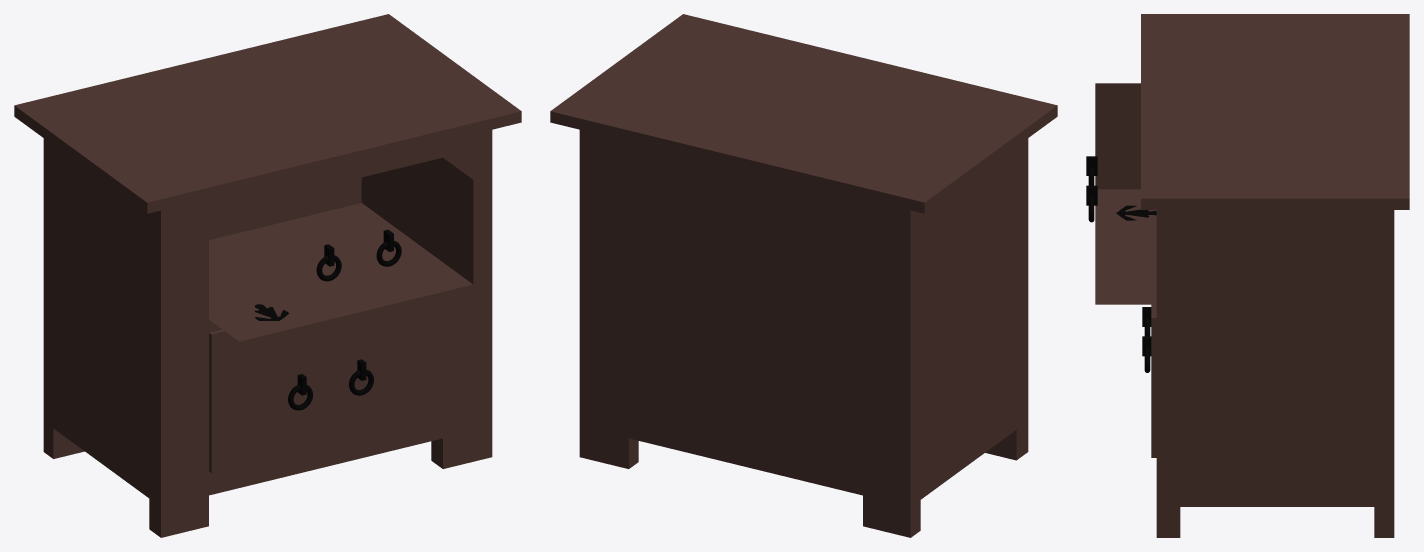
The model's file is gavetaancora.fbx.
3 renders of one model, left to right at view 1: azimuth 30°, elevation 25°; view 2: azimuth 150°, elevation 25°; view 3: azimuth 270°, elevation 25°, orthographic.
Parts seen in each view (by area): view 1: armario.002; view 2: armario.002; view 3: armario.002.
Part boxes in pixels (x1,y1,x2,y2): armario.002: (14,14,521,537); armario.002: (550,14,1057,537); armario.002: (1086,14,1409,537).
Size of the model in its own units: 121 by 107 by 89.19.
